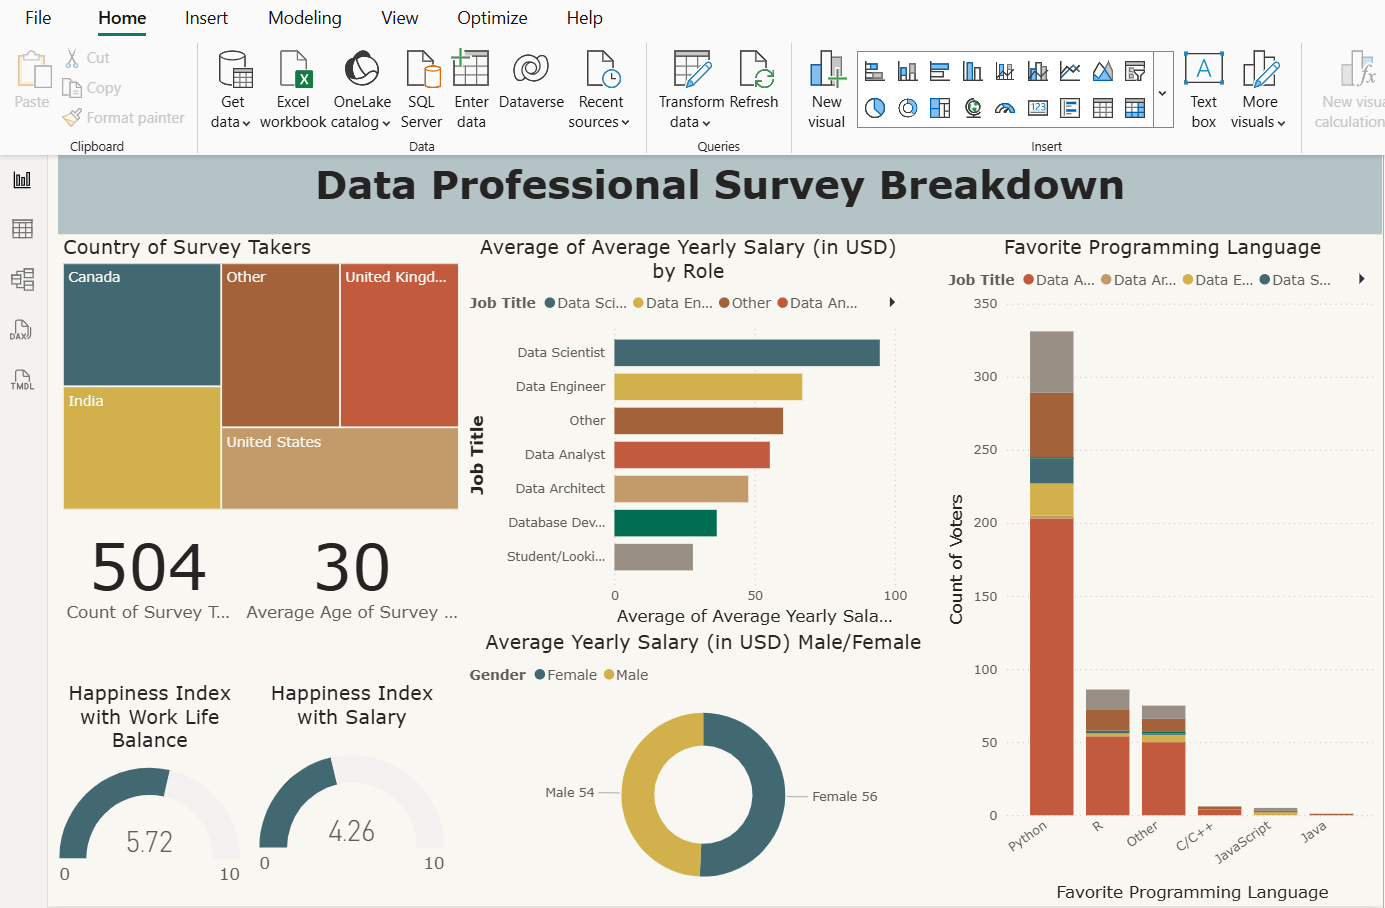

What the dashboard file says about the page in this screenshot:
{"tool":"powerbi","page":{"name":"Page 1","canvas":[1280,720],"ordinal":0},"visuals":[{"type":"textbox","box":[10,0,1269.7,76.3],"z":0},{"type":"card","fields":{"Values":["Count(Data Professional Survey.Unique ID)"]},"box":[10.1,344.8,173.1,111.1],"z":1000},{"type":"card","fields":{"Values":["Avg(Data Professional Survey.Q10 - Current Age)"]},"box":[183.2,344.8,216.4,111.1],"z":2000},{"type":"barChart","title":"Average of Average Yearly Salary (in USD) by Role","fields":{"Category":["Data Professional Survey.Q1 - Which Title Best Fits your Current Role?.1"],"Y":["Avg(Data Professional Survey.Average Yearly Salary (in USD))"],"Series":["Data Professional Survey.Q1 - Which Title Best Fits your Current Role?.1"]},"box":[399.6,76.5,429.9,379.4],"z":3000},{"type":"columnChart","title":"Favorite Programming Language","fields":{"Category":["Data Professional Survey.Q5 - Favorite Programming Language.1"],"Y":["Count(Data Professional Survey.Unique ID)"],"Series":["Data Professional Survey.Q1 - Which Title Best Fits your Current Role?.1"]},"box":[858.4,76.5,421.3,643.5],"z":4000},{"type":"treemap","title":"Country of Survey Takers","fields":{"Group":["Data Professional Survey.Q11 - Which Country do you live in?.1"],"Values":["Count(Data Professional Survey.Q11 - Which Country do you live in?.1)"]},"box":[10.1,76.5,389.5,268.4],"z":4001},{"type":"gauge","title":"Happiness Index with Work Life Balance","fields":{"Y":["Avg(Data Professional Survey.Q6 - How Happy are you in your Current Position with the following? (Work/Life Balance))"],"MinValue":["Min(Data Professional Survey.Q6 - How Happy are you in your Current Position with the following? (Work/Life Balance))"],"MaxValue":["Max(Data Professional Survey.Q6 - How Happy are you in your Current Position with the following? (Work/Life Balance))"]},"box":[5.8,505,183.2,215],"z":4002},{"type":"gauge","title":"Happiness Index with Salary","fields":{"Y":["Avg(Data Professional Survey.Q6 - How Happy are you in your Current Position with the following? (Salary))"],"MinValue":["Min(Data Professional Survey.Q6 - How Happy are you in your Current Position with the following? (Salary))"],"MaxValue":["Max(Data Professional Survey.Q6 - How Happy are you in your Current Position with the following? (Salary))"]},"box":[197.7,505,187.6,215],"z":4003},{"type":"donutChart","title":"Average Yearly Salary (in USD) Male/Female","fields":{"Y":["Avg(Data Professional Survey.Average Yearly Salary (in USD))"],"Category":["Data Professional Survey.Q9 - Male/Female?"]},"box":[399.6,455.9,458.8,264],"z":4004}]}

Visuals, with their boxes on the page's 1280x720 design canvas (x1, y1, x2, y2). These are canvas units, not pixel positions in the 1385x908 screenshot, which may show the page scaled, cropped or inside an application window:
textbox: crop(10, 0, 1280, 76)
card - Count(Data Professional Survey.Unique ID): crop(10, 345, 183, 456)
card - Avg(Data Professional Survey.Q10 - Current Age): crop(183, 345, 400, 456)
"Average of Average Yearly Salary (in USD) by Role" barChart: crop(400, 76, 830, 456)
"Favorite Programming Language" columnChart: crop(858, 76, 1280, 720)
"Country of Survey Takers" treemap: crop(10, 76, 400, 345)
"Happiness Index with Work Life Balance" gauge: crop(6, 505, 189, 720)
"Happiness Index with Salary" gauge: crop(198, 505, 385, 720)
"Average Yearly Salary (in USD) Male/Female" donutChart: crop(400, 456, 858, 720)
